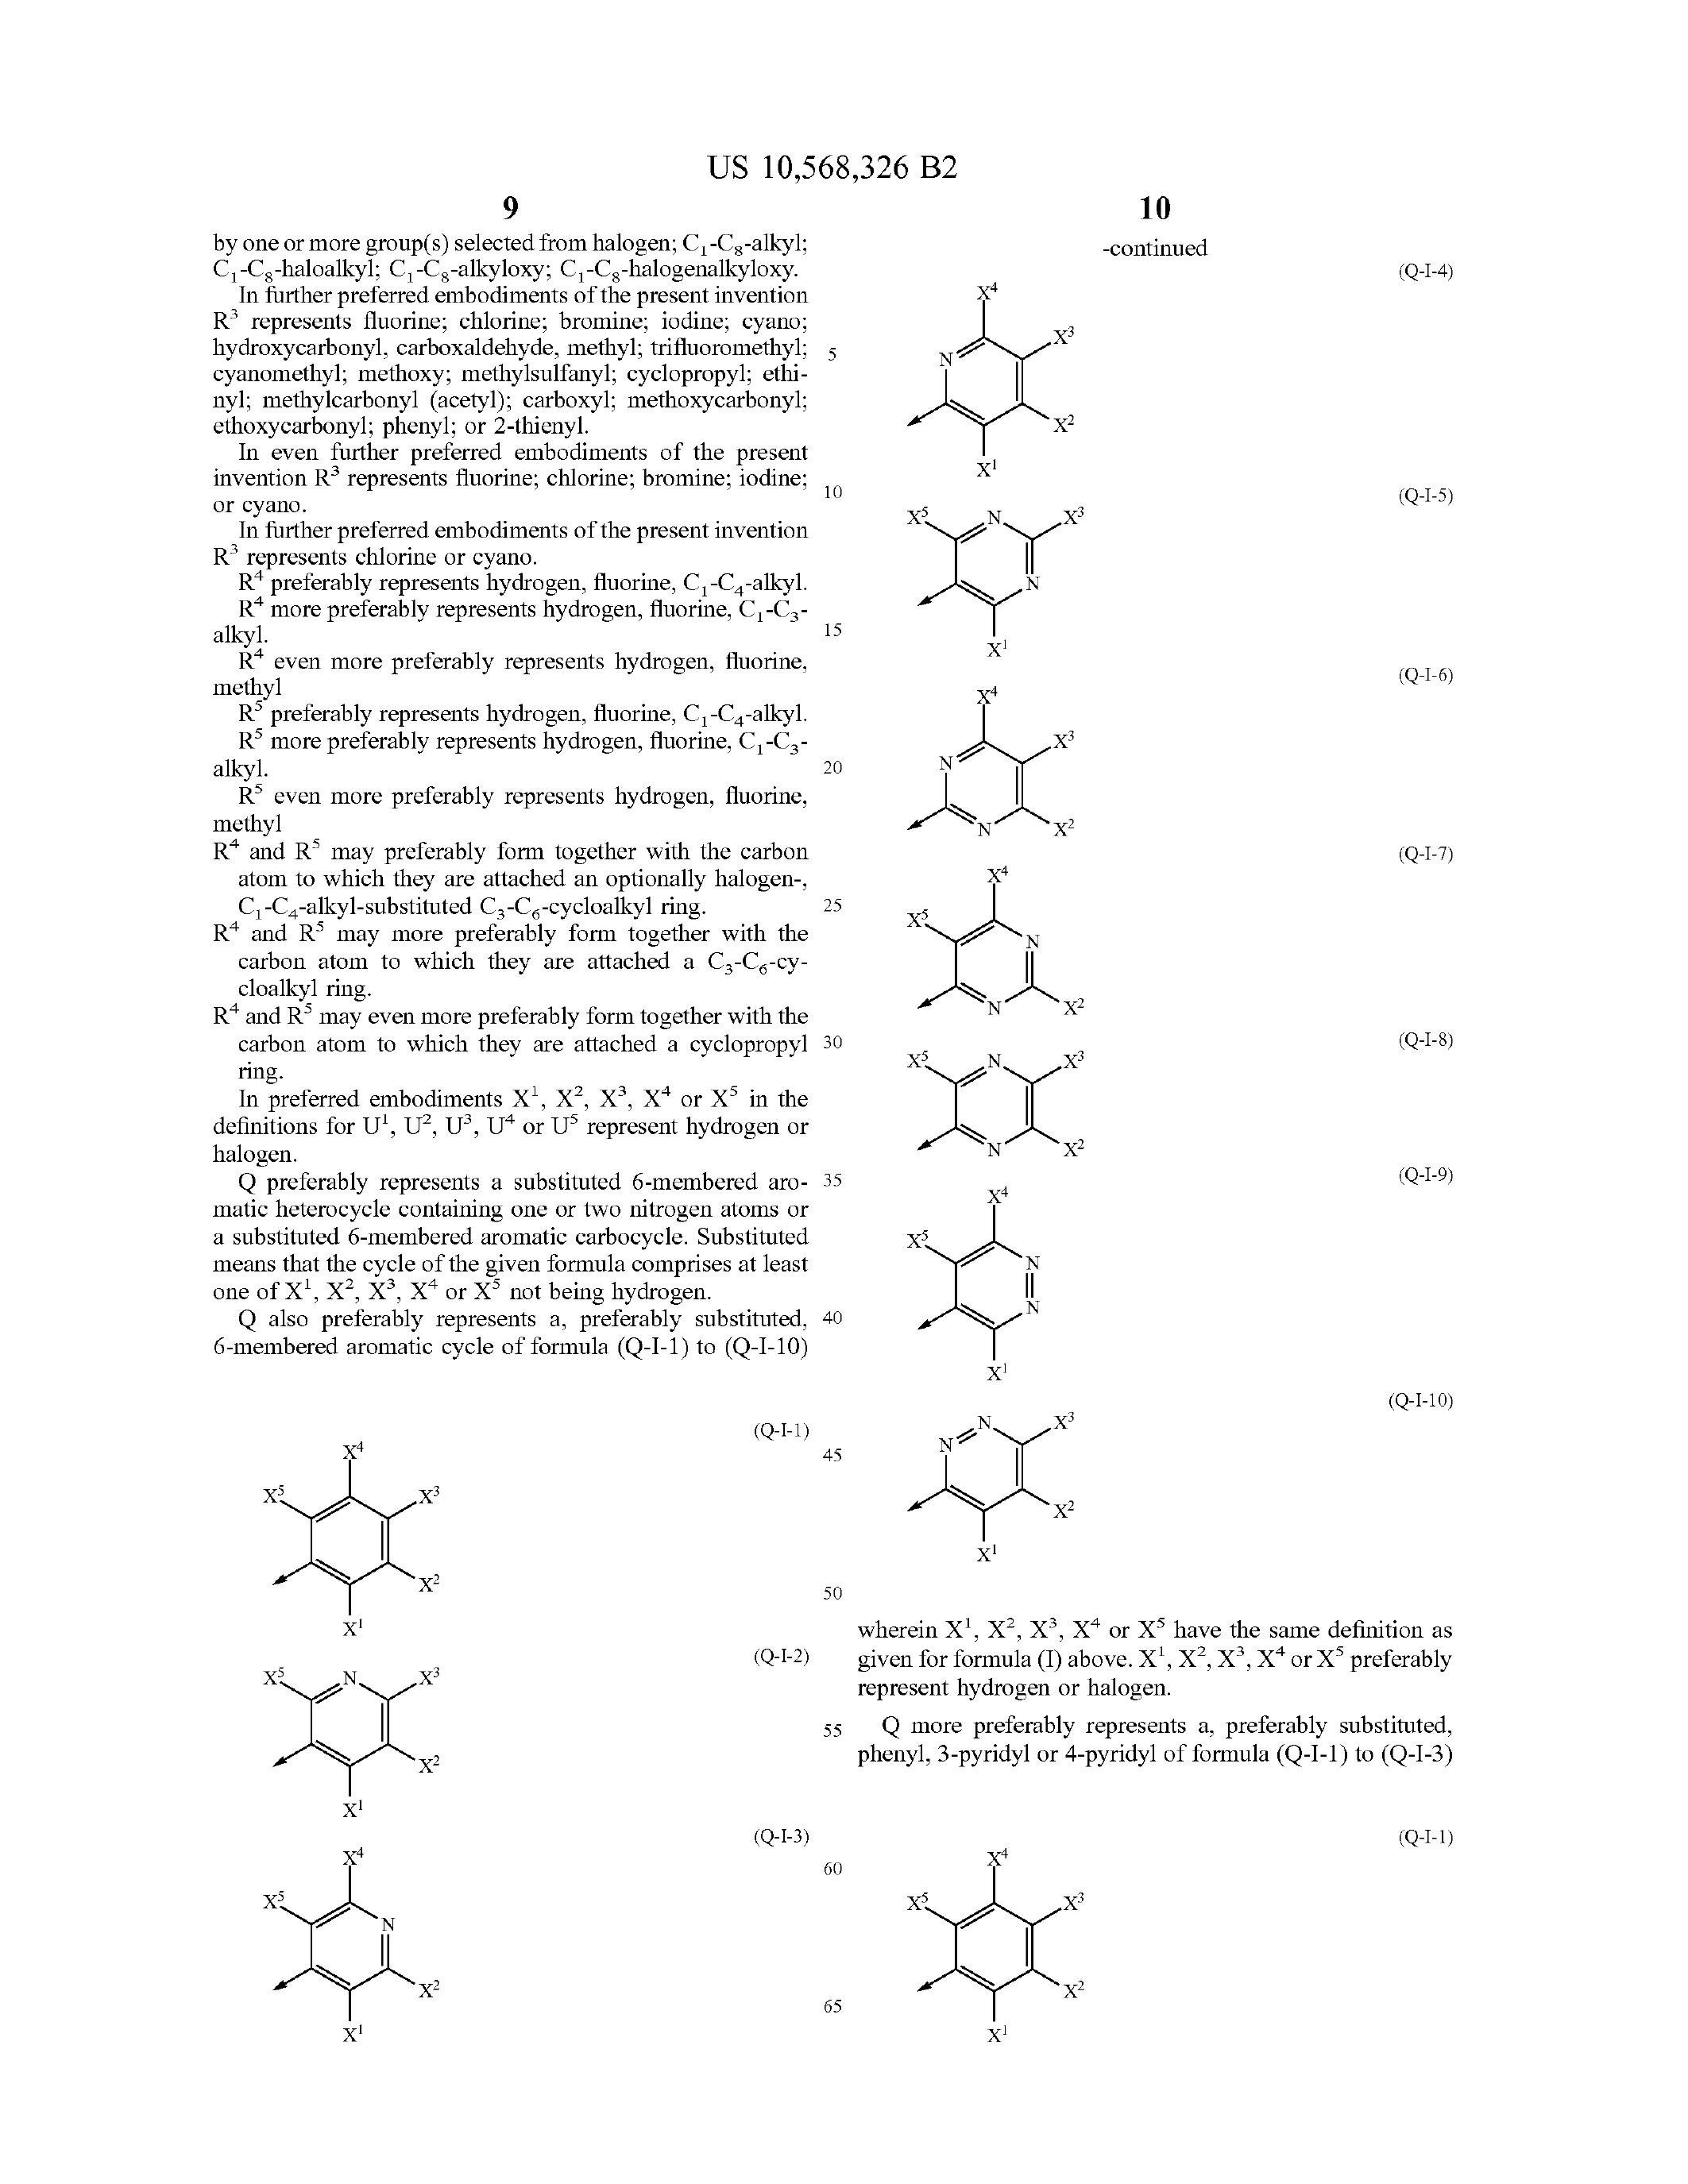markush-structures: (222, 1851, 520, 2085), (225, 1645, 502, 1853), (252, 1395, 479, 1627), (888, 473, 1122, 695), (892, 1845, 1101, 2087), (888, 280, 1122, 489), (872, 1179, 1090, 1377), (878, 1395, 1099, 1588), (878, 869, 1112, 1033), (887, 1023, 1080, 1193), (887, 693, 1092, 853)
